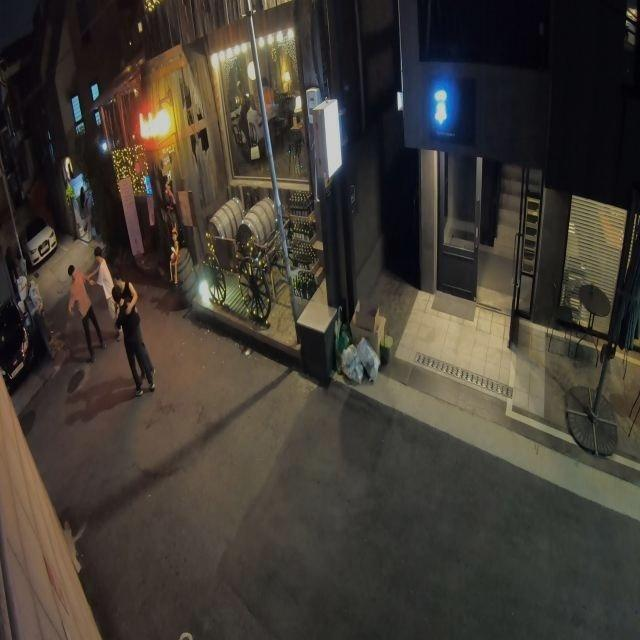fight: (67, 245, 119, 360), (110, 272, 157, 398)
